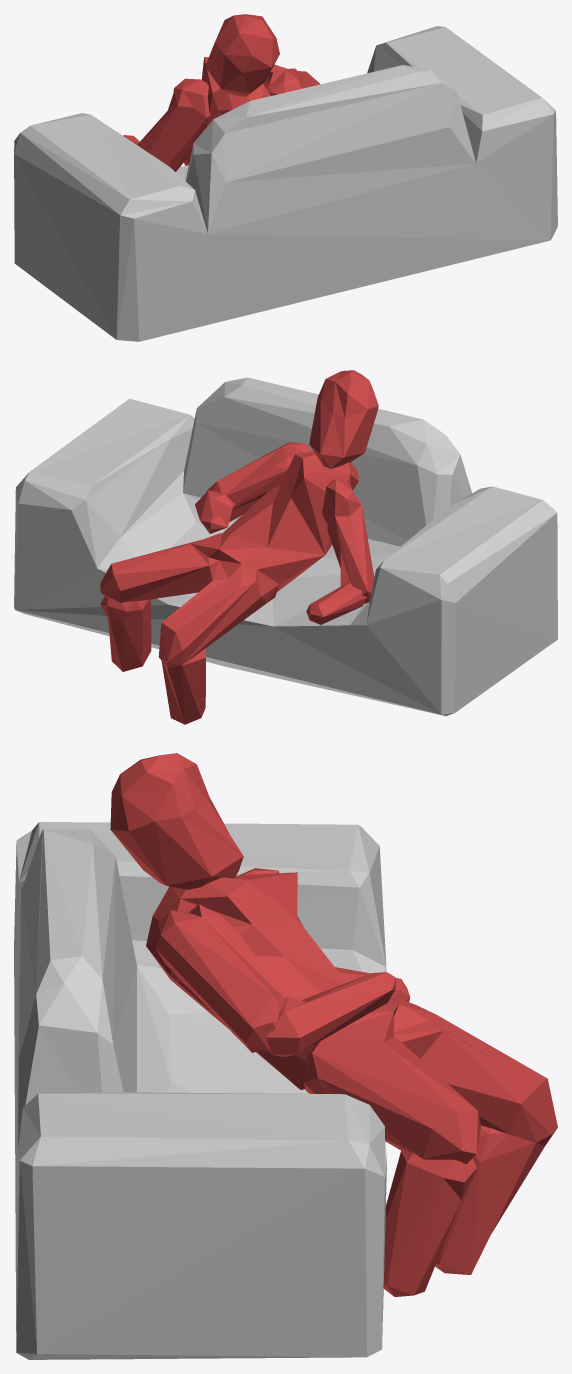
File: geyou.fbx
3 renders of one model, top to bottom at view 1: azimuth 30°, elevation 25°; view 2: azimuth 150°, elevation 25°; view 3: azimuth 270°, elevation 25°, orthographic. The views are drawn at different scales.
Visible parts, largest first — view 1: 细分曲面, 球体_10; view 2: 细分曲面, 球体_10; view 3: 细分曲面, 球体_10.
Part boxes in pixels (left/top/right/bottom): 细分曲面: left=14, top=26, right=557, bottom=341; 球体_10: left=123, top=14, right=320, bottom=171; 细分曲面: left=14, top=377, right=557, bottom=716; 球体_10: left=100, top=370, right=378, bottom=724; 细分曲面: left=14, top=822, right=386, bottom=1359; 球体_10: left=110, top=753, right=557, bottom=1296.
Size of the model in its own units: 505 by 324 by 344.
